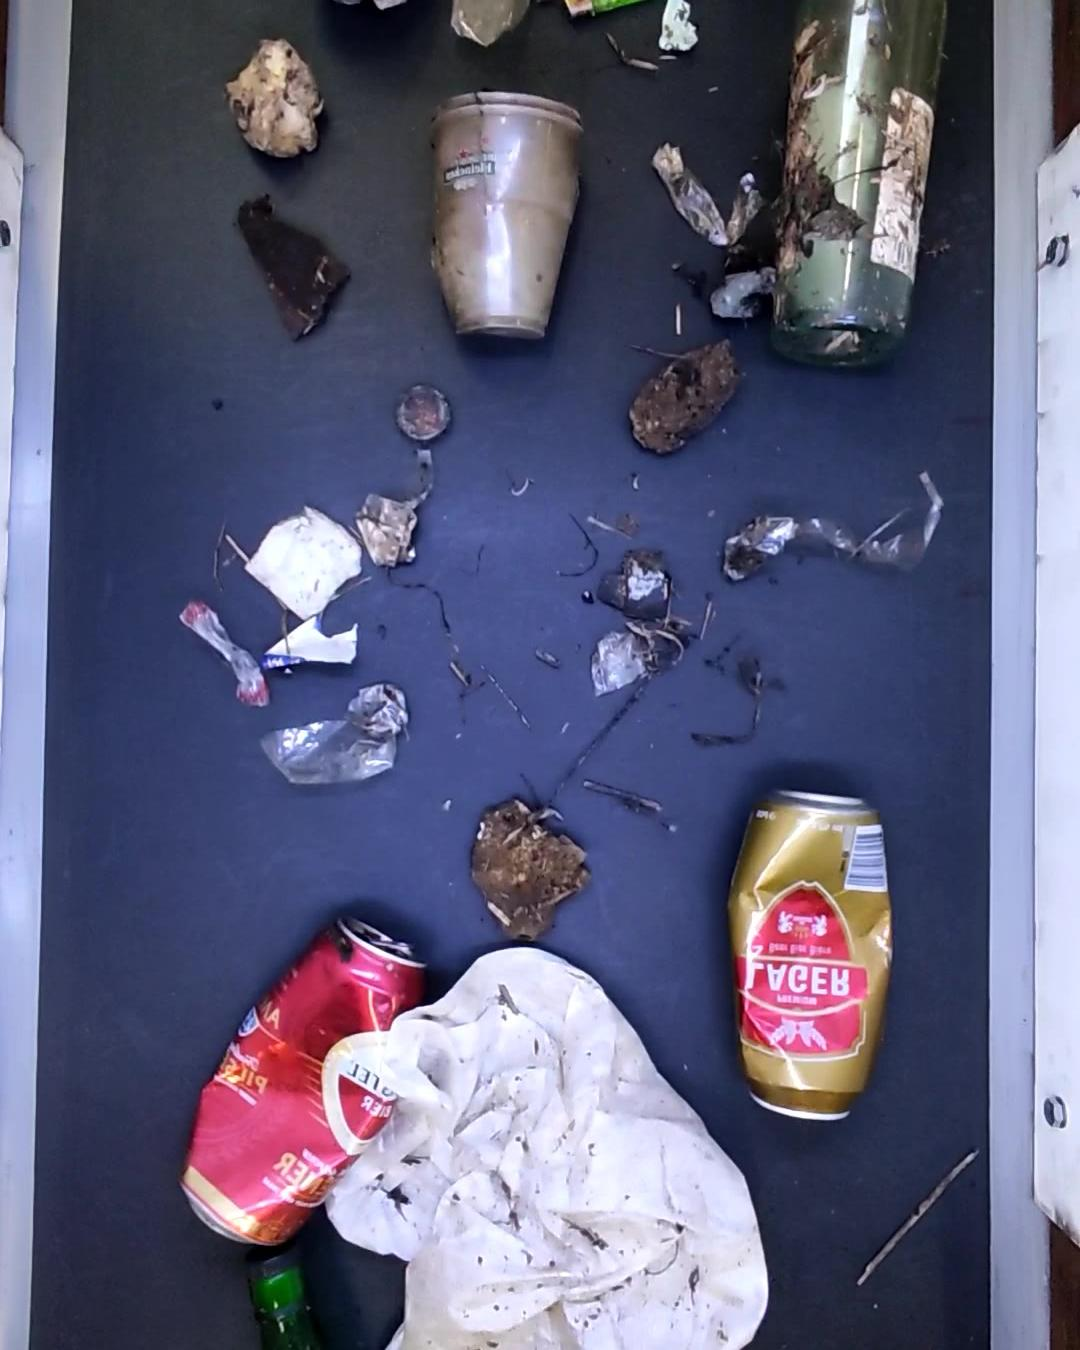Drankblikjes: (184, 914, 424, 1250), (734, 784, 894, 1124)
Plastic folies of stukken daarvan 2.5- 50 cm: (757, 473, 946, 579), (262, 679, 418, 791), (652, 141, 760, 250), (708, 262, 780, 318), (593, 629, 646, 698)
Snoep snack en chips verpakkingen: (177, 597, 269, 708), (268, 616, 363, 676)
